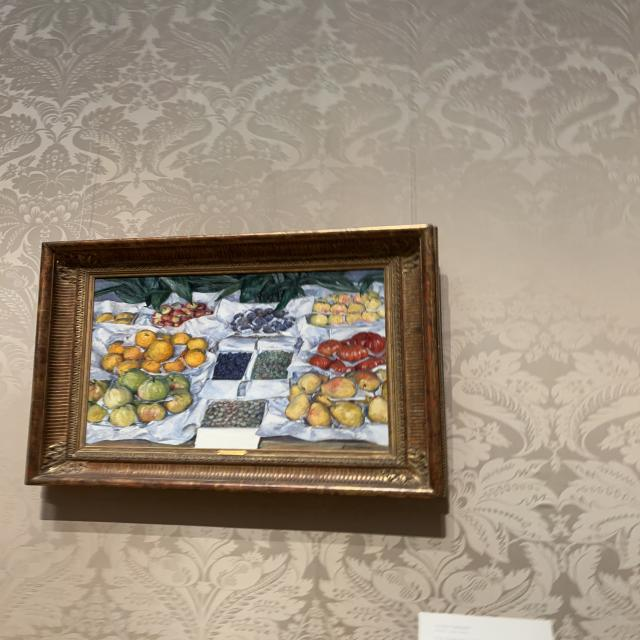fruits: (88, 273, 387, 448)
